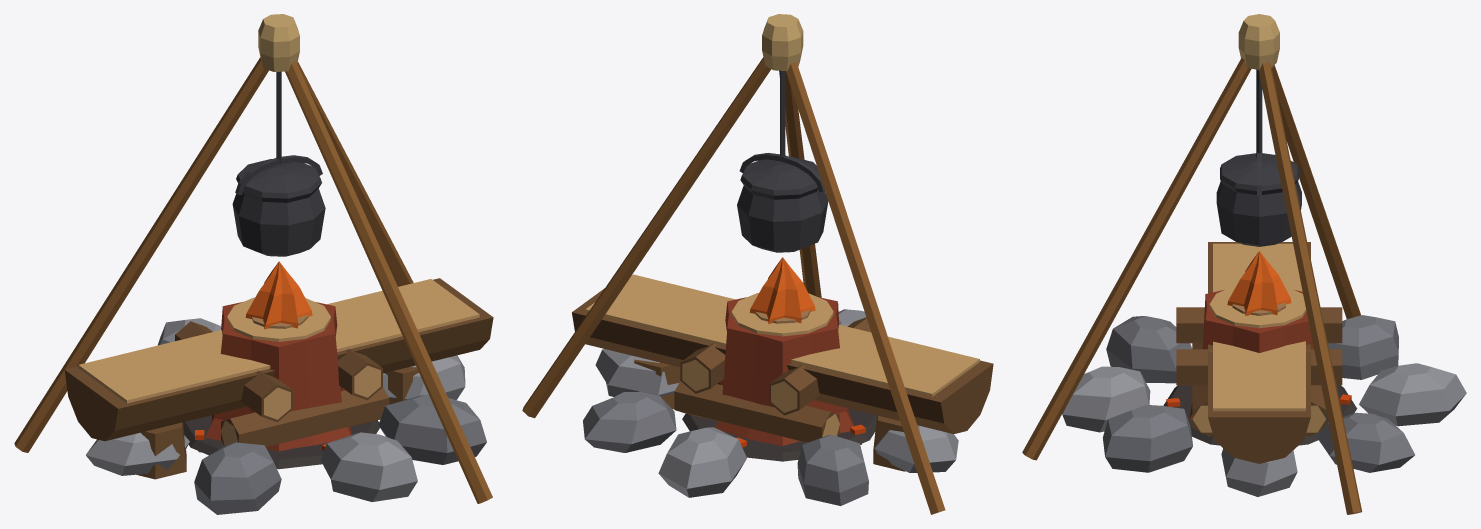
Rendered from w2_camp.fbx.
3 views of the same model, side by side, from view 1: azimuth 30°, elevation 25°; view 2: azimuth 150°, elevation 25°; view 3: azimuth 270°, elevation 25° (orthographic). The views are drawn at different scales.
Visible parts, largest first — view 1: Campfire.Sticks, LogBench.SeatTop, LogBench.Seat, Campfire.Stones, Campfire.StonesDark, Campfire.Iron, StumpStool.Bark, Campfire.Logs, Campfire.Flames, LogBench.Legs, Campfire.Ash, Campfire.Rope (+2 smaller); view 2: Campfire.Sticks, LogBench.SeatTop, LogBench.Seat, Campfire.Stones, Campfire.StonesDark, Campfire.Iron, StumpStool.Bark, Campfire.Logs, Campfire.Flames, Campfire.Ash, Campfire.Rope, StumpStool.CutTop (+2 smaller); view 3: Campfire.Sticks, Campfire.StonesDark, Campfire.Stones, LogBench.SeatTop, Campfire.Iron, LogBench.Seat, Campfire.Logs, StumpStool.Bark, Campfire.Flames, Campfire.Rope, StumpStool.CutTop, Campfire.Ash (+1 smaller).
Boxes of the visible parts, left/top/right/bottom form: Campfire.Sticks: left=14, top=57, right=492, bottom=503; LogBench.SeatTop: left=78, top=279, right=479, bottom=403; LogBench.Seat: left=64, top=278, right=493, bottom=441; Campfire.Stones: left=86, top=318, right=465, bottom=501; Campfire.StonesDark: left=194, top=394, right=486, bottom=514; Campfire.Iron: left=232, top=71, right=325, bottom=256; StumpStool.Bark: left=198, top=302, right=351, bottom=452; Campfire.Logs: left=175, top=321, right=389, bottom=447; Campfire.Flames: left=245, top=261, right=312, bottom=329; LogBench.Legs: left=136, top=367, right=418, bottom=479; Campfire.Ash: left=183, top=415, right=379, bottom=469; Campfire.Rope: left=258, top=14, right=299, bottom=71; Campfire.Sticks: left=522, top=57, right=945, bottom=514; LogBench.SeatTop: left=585, top=274, right=979, bottom=396; LogBench.Seat: left=572, top=288, right=993, bottom=433; Campfire.Stones: left=595, top=309, right=958, bottom=497; Campfire.StonesDark: left=583, top=391, right=868, bottom=505; Campfire.Iron: left=737, top=70, right=828, bottom=252; StumpStool.Bark: left=715, top=297, right=861, bottom=445; Campfire.Logs: left=674, top=317, right=870, bottom=442; Campfire.Flames: left=750, top=257, right=815, bottom=323; Campfire.Ash: left=682, top=408, right=876, bottom=461; Campfire.Rope: left=762, top=14, right=803, bottom=70; StumpStool.CutTop: left=731, top=293, right=833, bottom=336; Campfire.Sticks: left=1022, top=57, right=1362, bottom=514; Campfire.StonesDark: left=1103, top=315, right=1414, bottom=472; Campfire.Stones: left=1062, top=363, right=1466, bottom=496; LogBench.SeatTop: left=1213, top=243, right=1305, bottom=411; Campfire.Iron: left=1216, top=69, right=1301, bottom=246; LogBench.Seat: left=1208, top=242, right=1310, bottom=463; Campfire.Logs: left=1176, top=307, right=1342, bottom=436; StumpStool.Bark: left=1189, top=290, right=1313, bottom=419; Campfire.Flames: left=1227, top=251, right=1291, bottom=316; Campfire.Rope: left=1238, top=14, right=1279, bottom=69; StumpStool.CutTop: left=1209, top=285, right=1306, bottom=328; Campfire.Ash: left=1163, top=385, right=1357, bottom=445.
Bounding box in the file's own units: 5.72 × 5.3 × 5.36.
